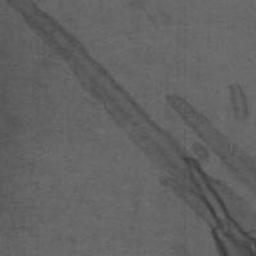Water spot: (60, 55, 256, 256), (229, 83, 250, 123), (169, 238, 198, 256)
